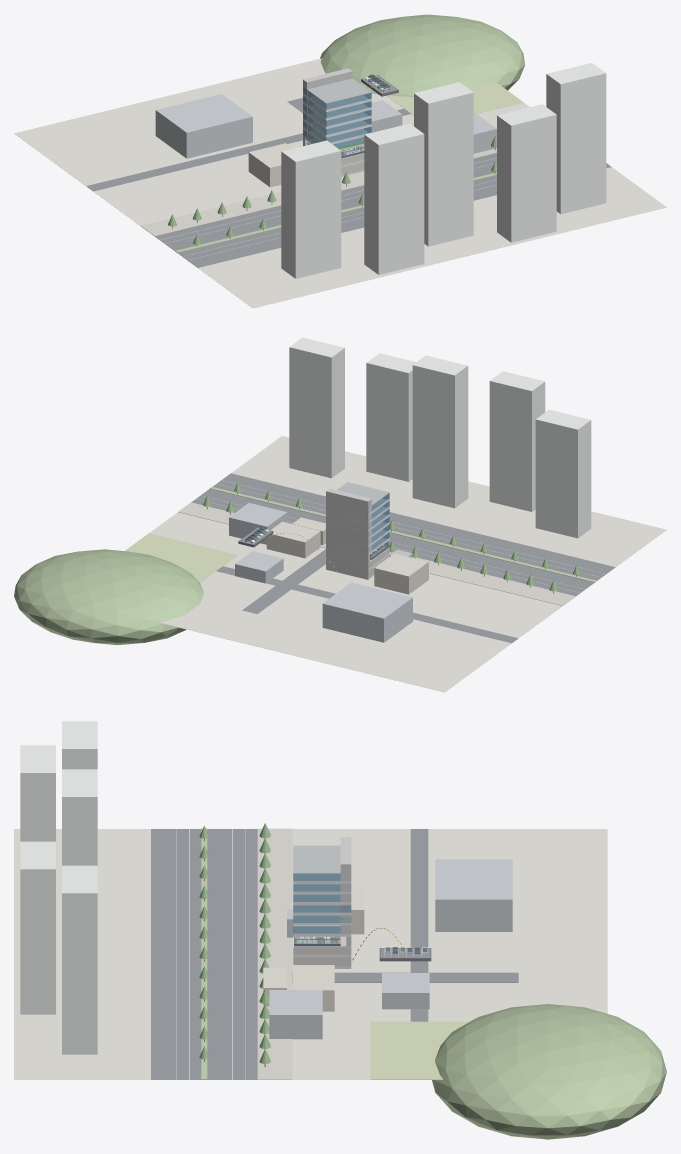
The model's file is office_3F.glb.
3 views of the same model, one above another, from view 1: azimuth 30°, elevation 25°; view 2: azimuth 150°, elevation 25°; view 3: azimuth 270°, elevation 25° (orthographic). The views are drawn at different scales.
Parts seen in each view (by area): view 1: SITE_GROUND, SITE_HILL_E, SITE_APT_2, SITE_APT_3, SITE_APT_1, SITE_APT_4, SITE_APT_5, SITE_ROAD_MAIN, SITE_NB_BENZ_N, SITE_SIDEWALK_SW, SITE_ROAD_NE, SITE_FIELD_E (+11 smaller); view 2: SITE_GROUND, SITE_HILL_E, SITE_ROAD_MAIN, SITE_APT_3, SITE_APT_5, SITE_APT_1, SITE_APT_2, SITE_APT_4, SITE_NB_BENZ_N, BLD_UP_CORE, SITE_SIDEWALK_SW, SITE_FIELD_E (+11 smaller); view 3: SITE_GROUND, SITE_ROAD_MAIN, SITE_HILL_E, SITE_APT_5, SITE_APT_4, SITE_SIDEWALK_SW, SITE_NB_BENZ_N, SITE_FIELD_E, SITE_APT_2, SITE_APT_3, SITE_ROAD_NE, SITE_NB_HYUNDAI_S (+10 smaller).
Part boxes in pixels (x1,y1,x2,y2): SITE_GROUND: (14,58,666,308); SITE_HILL_E: (320,14,524,96); SITE_APT_2: (364,123,424,274); SITE_APT_3: (414,82,473,246); SITE_APT_1: (281,140,341,278); SITE_APT_4: (497,104,556,242); SITE_APT_5: (546,63,606,214); SITE_ROAD_MAIN: (155,153,611,267); SITE_NB_BENZ_N: (155,94,252,158); SITE_SIDEWALK_SW: (141,148,496,236); SITE_ROAD_NE: (86,108,410,191); SITE_FIELD_E: (387,80,523,115); SITE_GROUND: (149,436,666,692); SITE_HILL_E: (14,549,203,645); SITE_ROAD_MAIN: (191,473,615,596); SITE_APT_3: (412,355,468,508); SITE_APT_5: (289,337,344,478); SITE_APT_1: (535,409,591,538); SITE_APT_2: (489,371,545,511); SITE_APT_4: (366,353,416,481); SITE_NB_BENZ_N: (322,582,412,642); BLD_UP_CORE: (326,488,371,554); SITE_SIDEWALK_SW: (178,502,575,605); SITE_FIELD_E: (125,533,237,582); SITE_GROUND: (14,829,607,1079); SITE_ROAD_MAIN: (151,829,257,1079); SITE_HILL_E: (432,1004,666,1139); SITE_APT_5: (62,865,97,1054); SITE_APT_4: (20,841,55,1014); SITE_SIDEWALK_SW: (257,828,292,1079); SITE_NB_BENZ_N: (435,859,512,931); SITE_FIELD_E: (370,1021,469,1079); SITE_APT_2: (20,745,55,841); SITE_APT_3: (62,769,97,865); SITE_ROAD_NE: (410,829,428,1021); SITE_NB_HYUNDAI_S: (269,990,322,1039).
Bounding box in the file's own units: 230 × 84 × 220.
